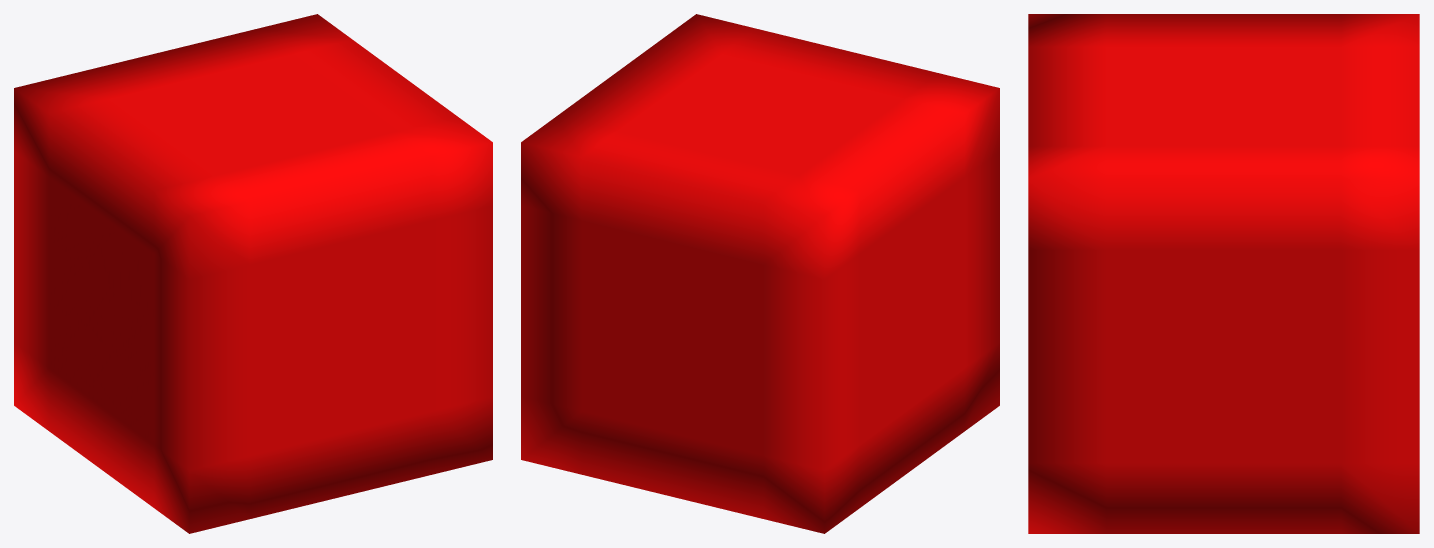
The picture shows the model from 3 angles, left to right: view 1: azimuth 30°, elevation 25°; view 2: azimuth 150°, elevation 25°; view 3: azimuth 270°, elevation 25°; orthographic projection. The views are drawn at different scales.
Visible parts, largest first — view 1: 1_Visual; view 2: 1_Visual; view 3: 1_Visual.
Boxes of the visible parts, x1,y1,x2,y2 form: 1_Visual: (14, 14, 492, 533); 1_Visual: (521, 14, 999, 533); 1_Visual: (1028, 14, 1419, 533).
Size of the model in its own units: 20 by 20 by 20.
